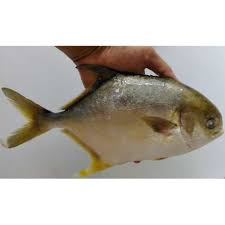Ikan Bawal: (1, 69, 225, 179)
